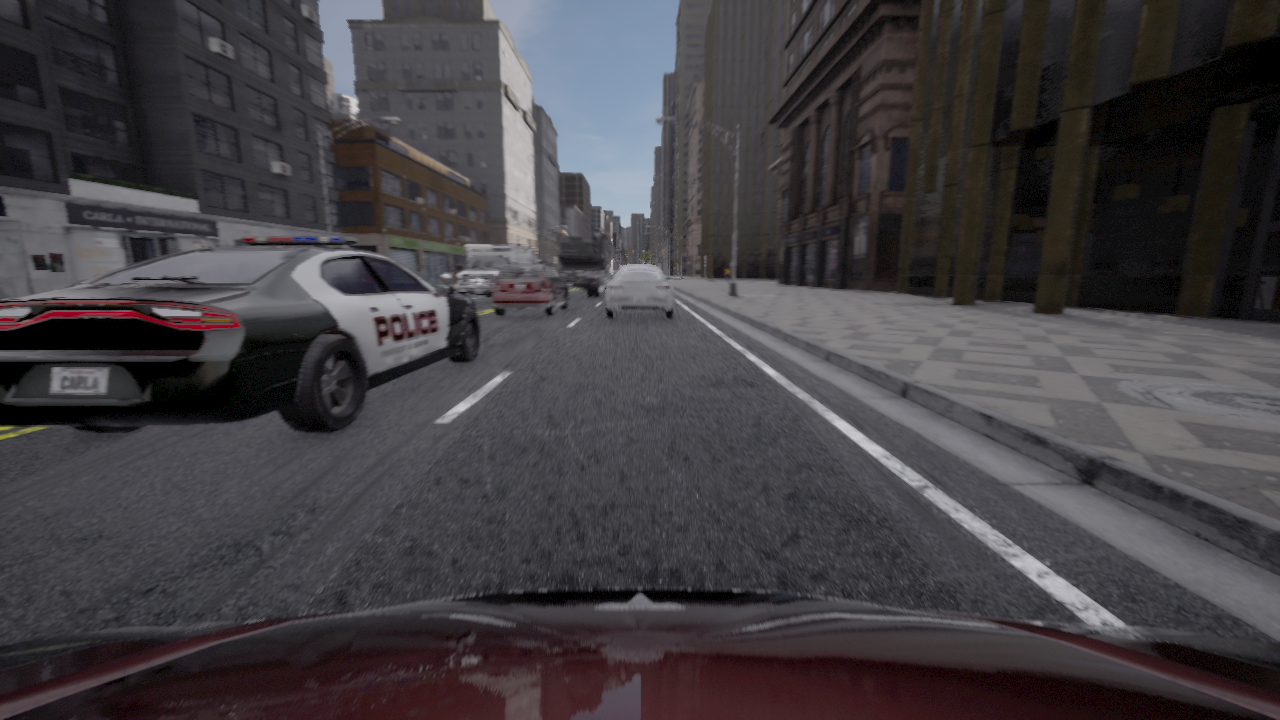cyclist: (0, 588, 1279, 719), (0, 236, 480, 431), (456, 245, 535, 297), (492, 261, 567, 315), (605, 264, 673, 317), (558, 233, 613, 297)
